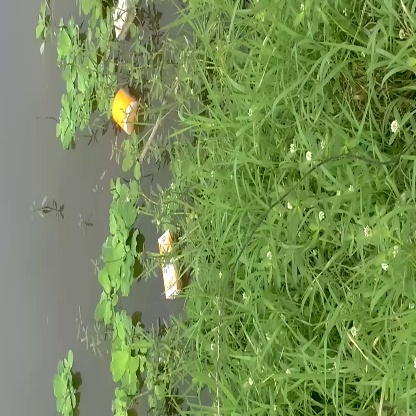bottle: (103, 79, 147, 137)
